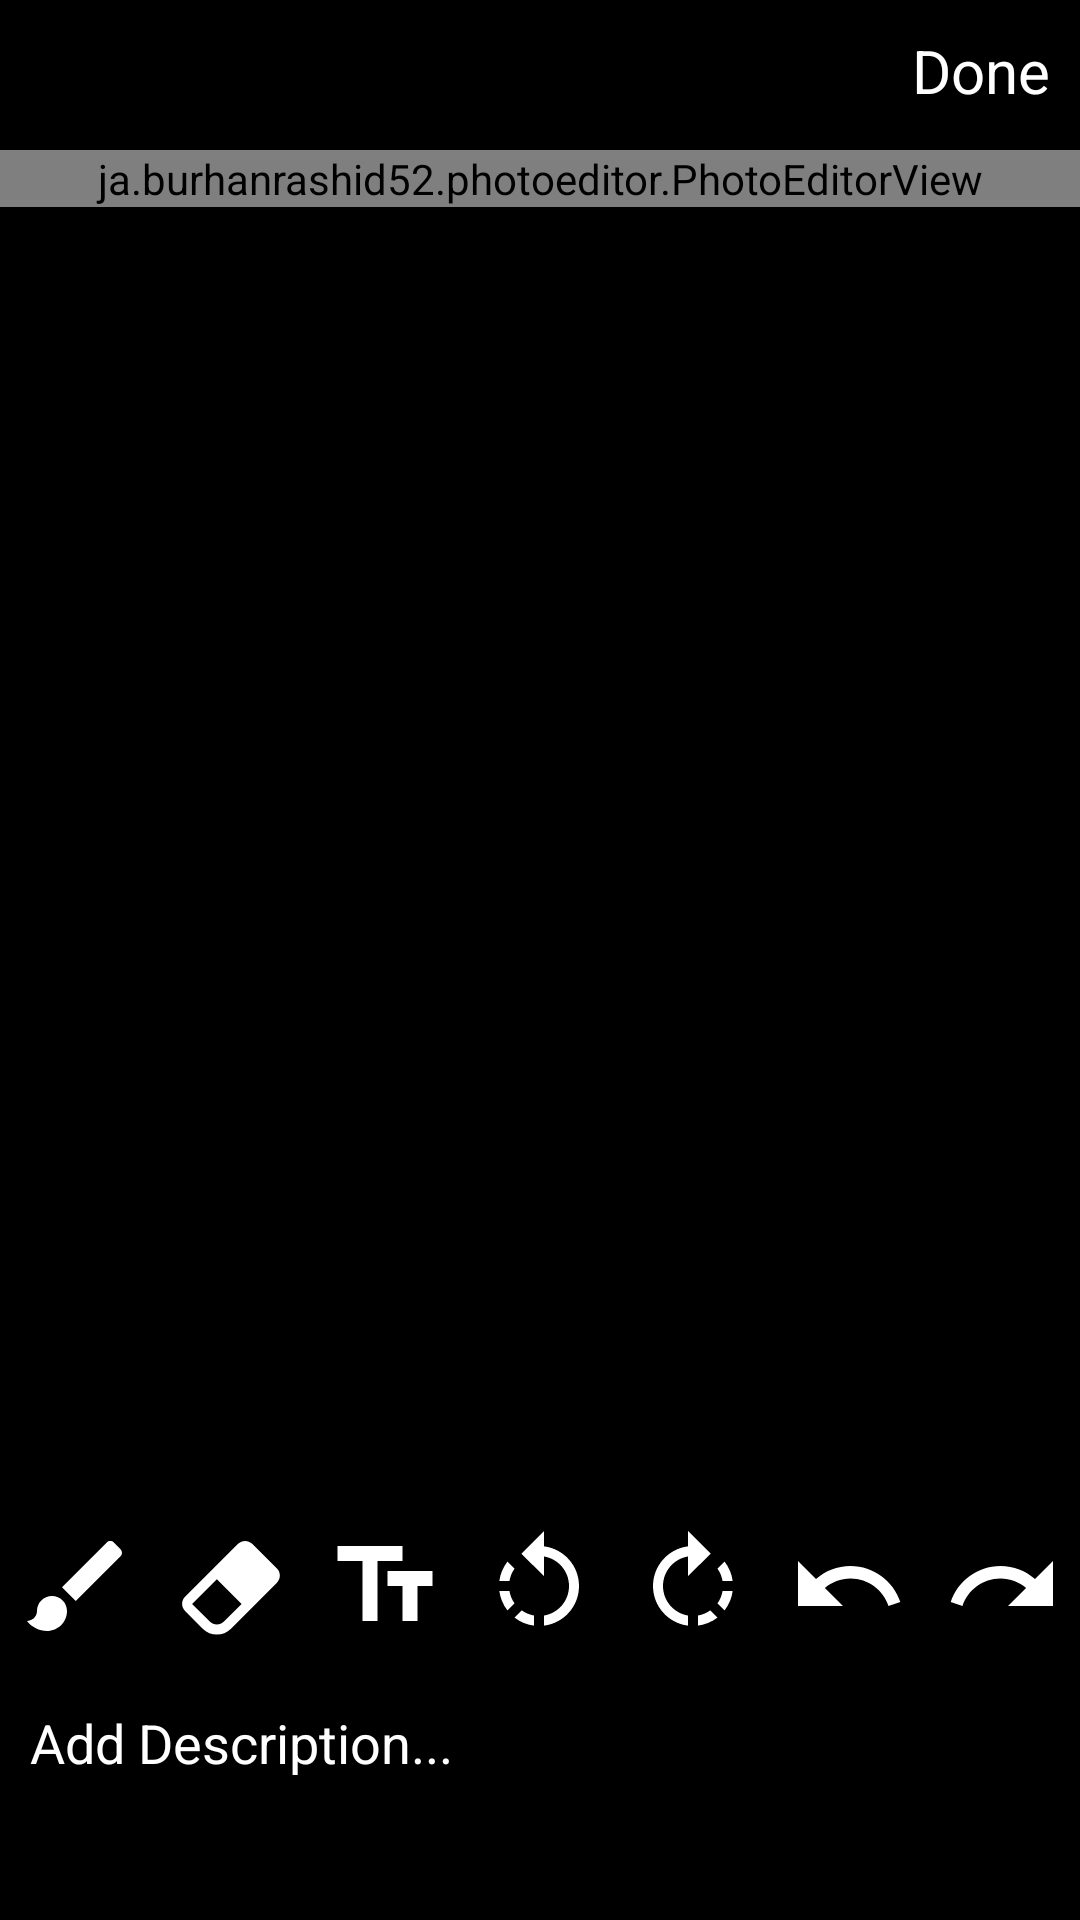

Icons on this 1080 x 1920 Android screen, each with the point to tap as (x,y):
brush: (74,1586)
erase: (231,1588)
redo: (1001,1583)
rotate left: (539,1578)
rotate right: (693,1578)
text field: (385,1583)
undo: (849,1583)
